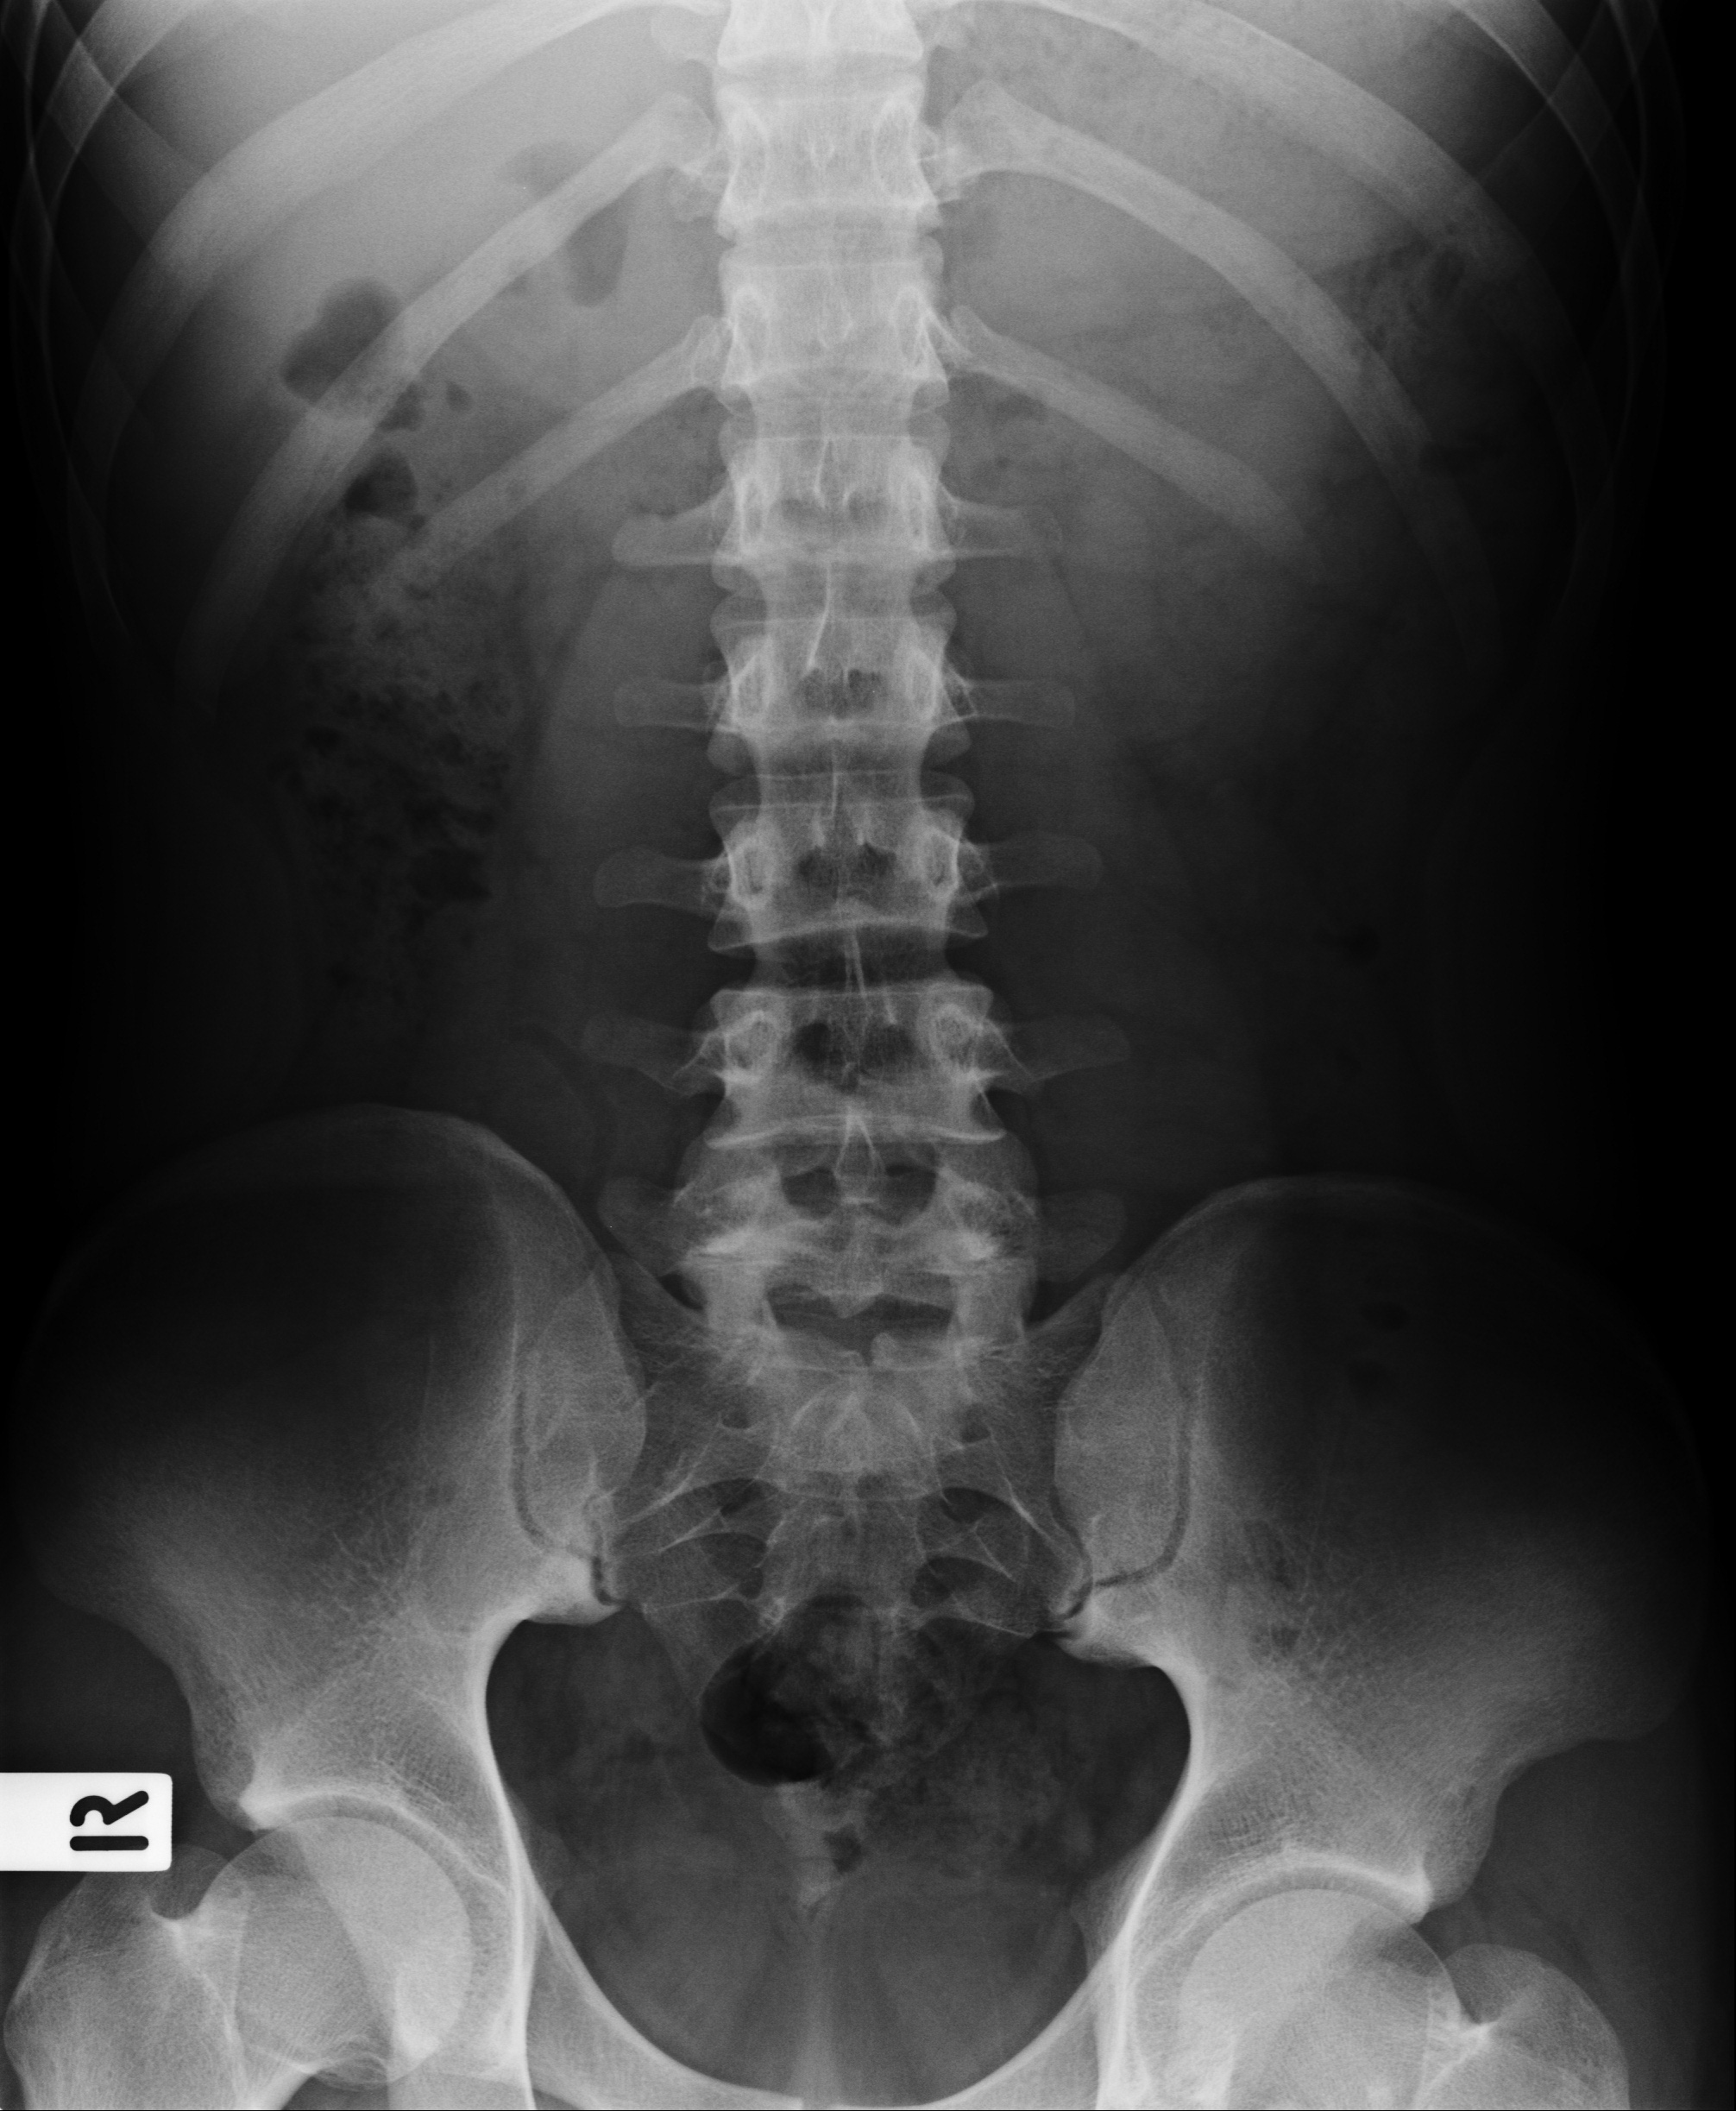lumbar scoliosis: (682, 5, 1010, 1362)
